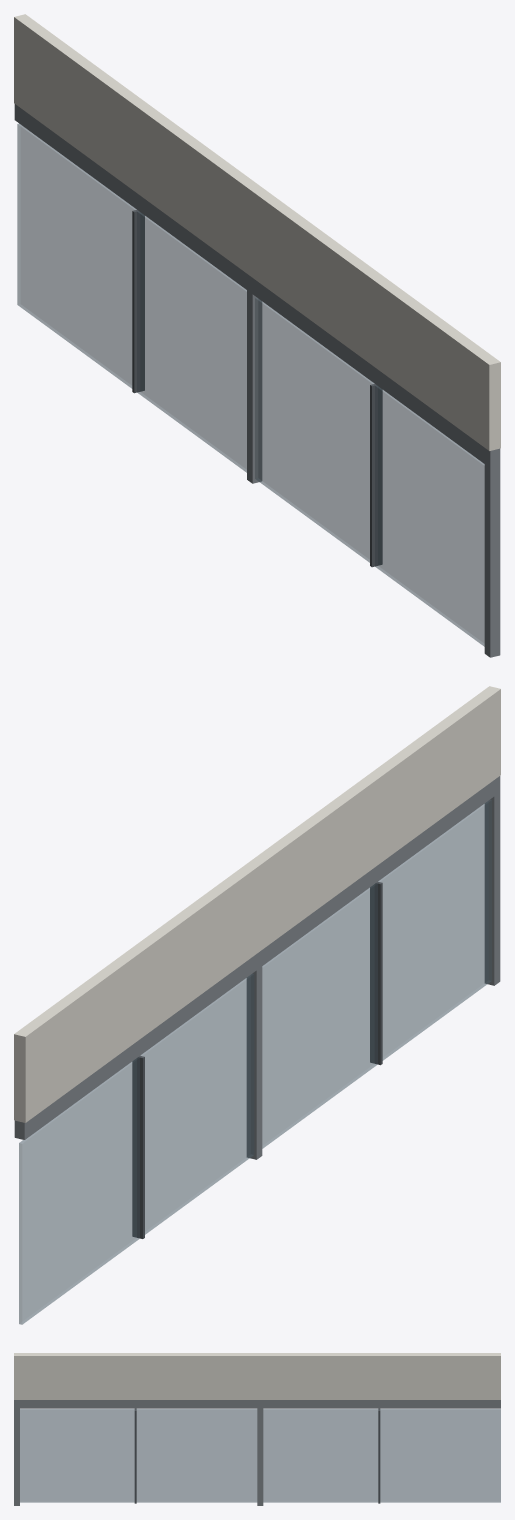
The model's file is psd-full.glb.
The picture shows the model from 3 angles, top to bottom: view 1: azimuth 30°, elevation 25°; view 2: azimuth 150°, elevation 25°; view 3: azimuth 270°, elevation 25°; orthographic projection. The views are drawn at different scales.
Visible parts, largest first — view 1: PSDFull; view 2: PSDFull; view 3: PSDFull.
Boxes of the visible parts, box(x1,y1,x2,y2) form: PSDFull: box(14, 14, 500, 657); PSDFull: box(14, 686, 500, 1324); PSDFull: box(14, 1353, 500, 1505).
Bounding box in the file's own units: 0.1398 × 3.4 × 10.
